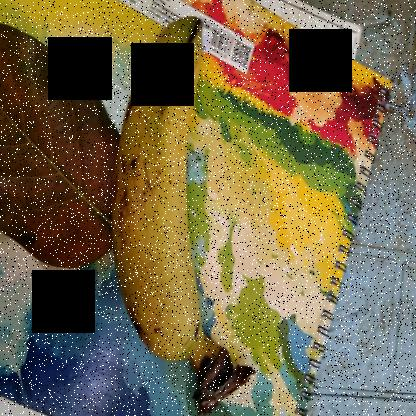ripe: (106, 1, 236, 367)
